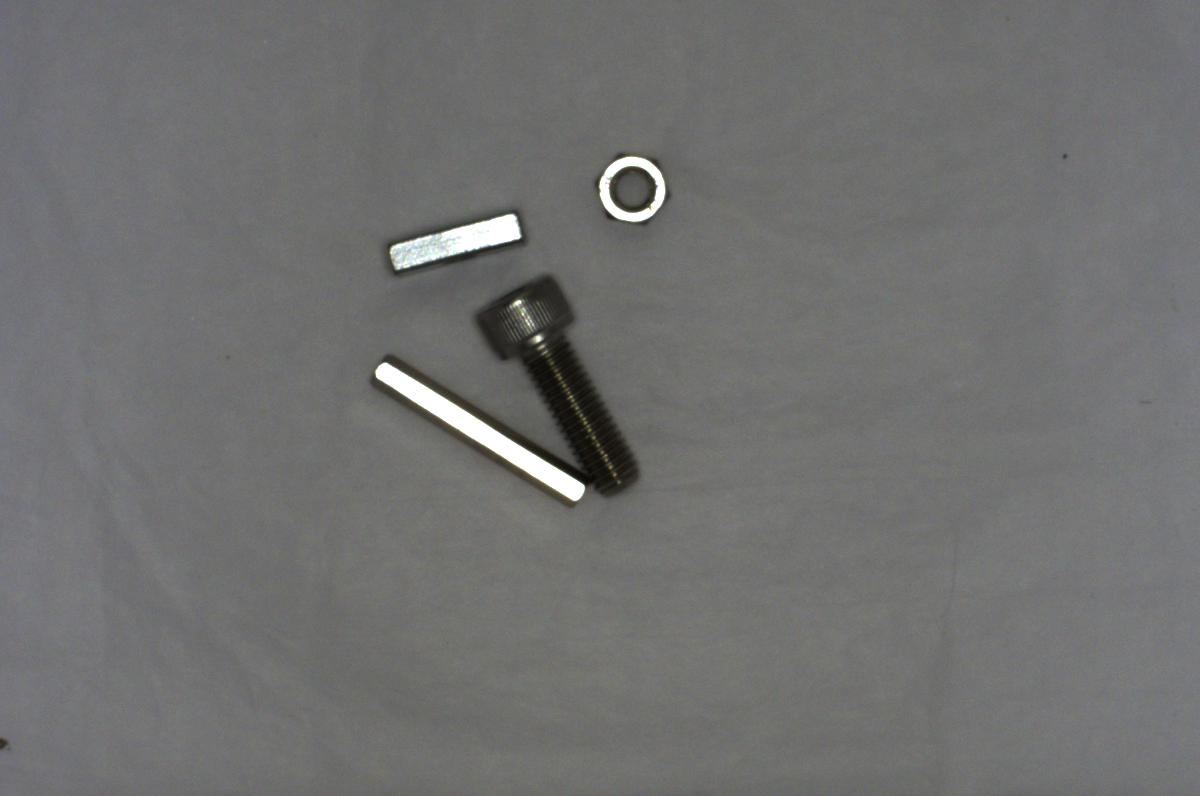Double hexagonal column: (364, 348, 587, 507)
Hexagon nut: (591, 143, 677, 232)
Hexagon screw: (478, 270, 645, 496)
Rectangular nut: (382, 199, 527, 275)
